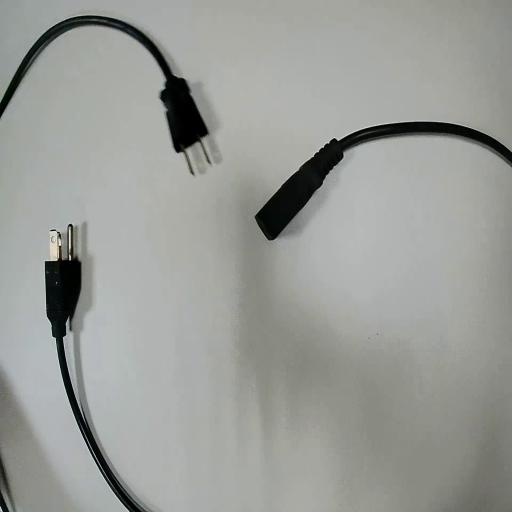wire: (256, 123, 511, 239), (0, 16, 207, 151), (46, 250, 141, 511)
